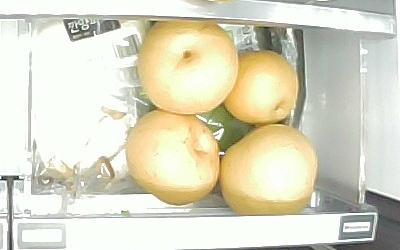pear: (136, 22, 239, 115), (124, 111, 222, 206), (220, 124, 318, 216), (223, 50, 299, 124)
